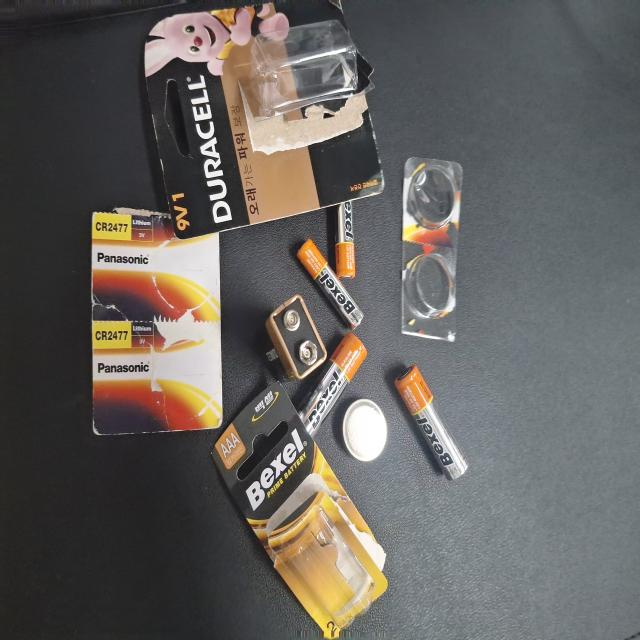9V: (221, 417, 286, 509)
AA: (274, 230, 360, 326), (249, 364, 327, 454)
AAA: (179, 369, 247, 457), (150, 379, 210, 407)
COIN: (299, 337, 346, 397)
